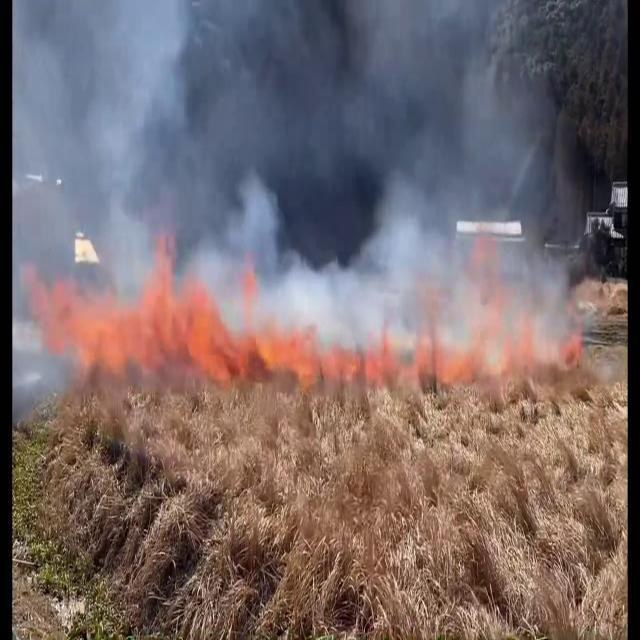Fire: (53, 228, 239, 382), (250, 310, 418, 397)
Smoke: (13, 4, 307, 333), (334, 0, 595, 319)
